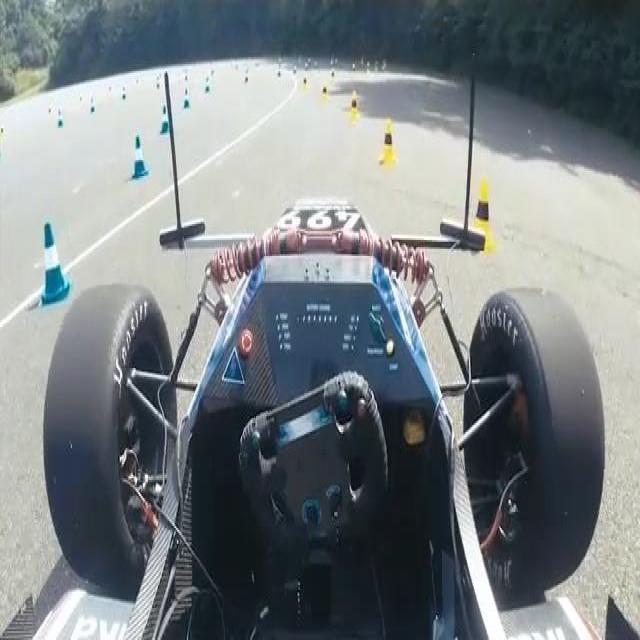blue_cone: (41, 222, 69, 310), (132, 135, 148, 182), (161, 106, 171, 134), (183, 87, 190, 110), (56, 109, 64, 129), (205, 78, 211, 94), (90, 96, 95, 114), (122, 85, 127, 100)
yellow_cone: (466, 179, 494, 253), (378, 121, 395, 165), (347, 87, 358, 122), (321, 82, 328, 104), (0, 124, 6, 144), (302, 78, 309, 95), (48, 105, 54, 120), (331, 69, 336, 86), (78, 94, 83, 109), (109, 86, 114, 100)
